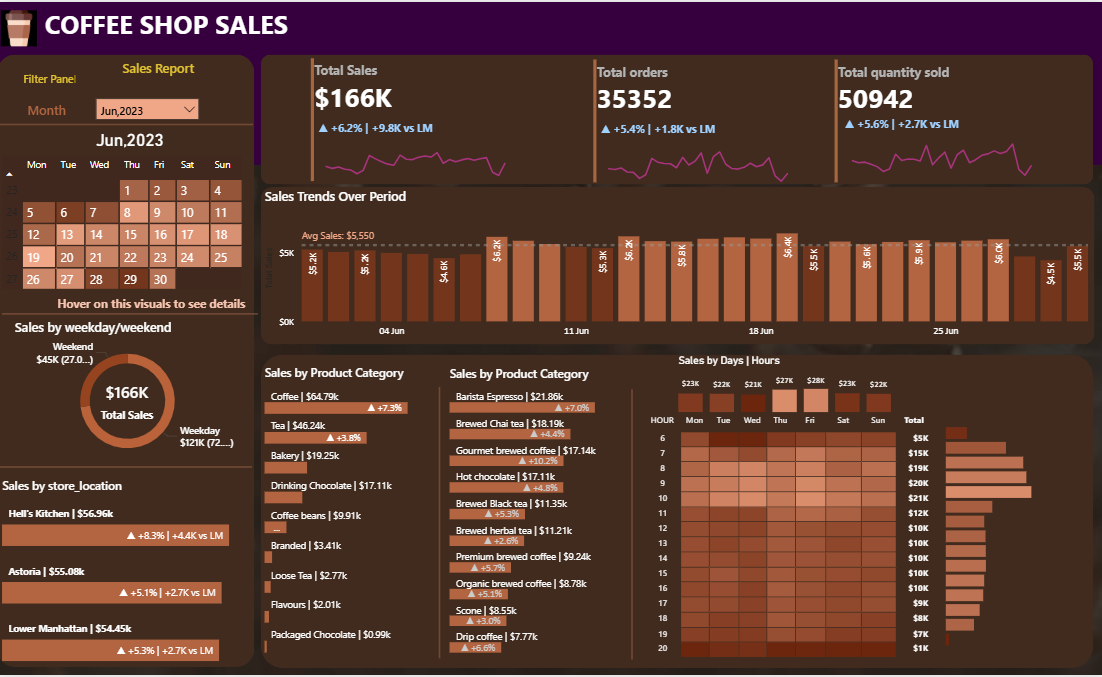

The dashboard page shown, as its layout file describes it:
{"tool":"powerbi","page":{"name":"coffee summary","canvas":[1400,850],"ordinal":0},"visuals":[{"type":"shape","box":[0,0,1400,206],"z":0},{"type":"shape","box":[0,66.3,325.1,773.2],"z":1000},{"type":"shape","box":[333,66.3,1051,164.1],"z":2000},{"type":"textbox","box":[55,1.4,339,65.2],"z":3000},{"type":"group","id":"g1","title":"Group 1","box":[391.3,66.3,265.1,164.1],"z":4000},{"type":"cardVisual","fields":{"Data":["Transactions.Total Sales"]},"box":[391.3,66.3,265.3,165.3],"z":4000,"group":"g1"},{"type":"cardVisual","fields":{"Data":["Transactions.Total orders"]},"box":[748,67.9,265.3,165.3],"z":4000,"group":"g3"},{"type":"cardVisual","fields":{"Data":["Transactions.Total sales STORE LOCATION"]},"box":[1052.5,67.9,265.3,165.3],"z":4000,"group":"g2"},{"type":"group","id":"g2","title":"Group 1","box":[1052.5,67.9,266.7,164.1],"z":5000},{"type":"group","id":"g3","title":"Group 1","box":[748,67.9,266.7,164.1],"z":6000},{"type":"lineChart","fields":{"Category":["Date Table.Date.Variation.Date Hierarchy.Year","Date Table.Date.Variation.Date Hierarchy.Quarter","Date Table.Date.Variation.Date Hierarchy.Month","Date Table.Date.Variation.Date Hierarchy.Day"],"Y":["Transactions.Total quantity sold"]},"box":[1064.5,144.9,255.6,81.9],"z":6000,"group":"g2"},{"type":"lineChart","fields":{"Category":["Date Table.Date.Variation.Date Hierarchy.Year","Date Table.Date.Variation.Date Hierarchy.Quarter","Date Table.Date.Variation.Date Hierarchy.Month","Date Table.Date.Variation.Date Hierarchy.Day"],"Y":["Transactions.Total Sales"]},"box":[401,149.6,255.6,81.9],"z":6000,"group":"g1"},{"type":"lineChart","fields":{"Category":["Date Table.Date.Variation.Date Hierarchy.Year","Date Table.Date.Variation.Date Hierarchy.Quarter","Date Table.Date.Variation.Date Hierarchy.Month","Date Table.Date.Variation.Date Hierarchy.Day"],"Y":["Transactions.Total orders"]},"box":[757.7,151.2,255.6,81.9],"z":6000,"group":"g3"},{"type":"pivotTable","fields":{"Columns":["Date Table.day name"],"Values":["Min(Date Table.day Number)"],"Rows":["Date Table.Week Num"]},"box":[1.6,189.4,321.9,209.9],"z":7000},{"type":"card","fields":{"Values":["Min(Date Table.Month Year)"]},"box":[101,159.4,134.1,30],"z":8000},{"type":"card","fields":{"Values":["Transactions.FOOTER NOTE"]},"box":[67.9,366.1,254.1,33.1],"z":9000},{"type":"shape","box":[606,574.4,321.9,12.6],"z":10000},{"type":"shape","box":[0,143.6,323.5,22.1],"z":11000},{"type":"donutChart","title":"Sales by weekday/weekend","fields":{"Category":["Date Table.weekday/weekend"],"Y":["Transactions.Total Sales"]},"box":[17.4,399.2,295.1,187.8],"z":12000},{"type":"card","fields":{"Values":["Transactions.Total Sales"]},"box":[119.9,471.8,88.4,63.1],"z":13000},{"type":"shape","box":[6.3,388.2,323.5,11],"z":14000},{"type":"clusteredBarChart","title":" Sales by store_location","fields":{"Category":["Transactions.store_location"],"Y":["Transactions.placeholde","Transactions.Total Sales"]},"box":[1.6,599.6,323.5,241.4],"z":15000},{"type":"shape","box":[333,445,1051,396.1],"z":16000},{"type":"shape","box":[333,233.5,1052.5,198.8],"z":17000},{"type":"columnChart","title":"Sales Trends Over Period","fields":{"Category":["Transactions.transaction_date"],"Y":["Transactions.Total Sales"]},"box":[333,233.5,1052.5,198.8],"z":18000},{"type":"clusteredBarChart","title":" Sales by Product Category","fields":{"Y":["Transactions.placeholde","Transactions.Total Sales"],"Category":["Transactions.product_category"]},"box":[333.2,457.7,220.2,369.4],"z":19000},{"type":"shape","box":[0,580.7,321.9,12.6],"z":20000},{"type":"shape","box":[550.7,486,15.8,342.4],"z":21000},{"type":"clusteredBarChart","title":" Sales by Product Category","fields":{"Y":["Transactions.placeholde","Transactions.Total Sales"],"Category":["Transactions.product_type"]},"box":[566.4,459.2,226,367.9],"z":22000},{"type":"shape","box":[792.2,489.2,18.9,340.9],"z":23000},{"type":"pivotTable","fields":{"Rows":["Transactions.HOUR"],"Columns":["Date Table.day name"],"Values":["Transactions.Total Sales"]},"box":[812.7,516,375.6,323.5],"z":24000},{"type":"barChart","fields":{"Category":["Transactions.HOUR"],"Y":["Transactions.Total Sales"]},"box":[1193,523.9,162.5,293.5],"z":25000},{"type":"columnChart","title":"Sales by Days | Hours","fields":{"Y":["Transactions.Total Sales"],"Category":["Date Table.day name"]},"box":[855.3,445,279.3,78.9],"z":26000},{"type":"slicer","fields":{"Values":["Date Table.Month Year"]},"box":[119.9,116.8,140.4,42.6],"z":27000},{"type":"textbox","box":[33.3,120.2,86.9,33.3],"z":28000},{"type":"textbox","box":[119.9,67.9,167.3,33.1],"z":29000},{"type":"textbox","box":[17.4,84,98.5,33.3],"z":30000},{"type":"image","box":[0,0,55,66.6],"z":31000}]}

Visuals, with their boxes in screenshot pixels (x1, y1, x2, y2), scaled from the page's 1400x850 canvas onto the 1102x677 screenshot:
shape: detection(0, 0, 1101, 164)
shape: detection(0, 53, 256, 669)
shape: detection(262, 53, 1089, 184)
textbox: detection(43, 1, 310, 53)
"Group 1" group: detection(308, 53, 517, 184)
cardVisual - Transactions.Total Sales: detection(308, 53, 517, 184)
cardVisual - Transactions.Total orders: detection(589, 54, 798, 186)
cardVisual - Transactions.Total sales STORE LOCATION: detection(828, 54, 1037, 186)
"Group 1" group: detection(828, 54, 1038, 185)
"Group 1" group: detection(589, 54, 799, 185)
lineChart - Date Table.Date.Variation.Date Hierarchy.Year x Date Table.Date.Variation.Date Hierarchy.Quarter: detection(838, 115, 1039, 181)
lineChart - Date Table.Date.Variation.Date Hierarchy.Year x Date Table.Date.Variation.Date Hierarchy.Quarter: detection(316, 119, 517, 184)
lineChart - Date Table.Date.Variation.Date Hierarchy.Year x Date Table.Date.Variation.Date Hierarchy.Quarter: detection(596, 120, 798, 186)
pivotTable - Date Table.day name x Min(Date Table.day Number): detection(1, 151, 255, 318)
card - Min(Date Table.Month Year): detection(80, 127, 185, 151)
card - Transactions.FOOTER NOTE: detection(53, 292, 253, 318)
shape: detection(477, 457, 730, 468)
shape: detection(0, 114, 255, 132)
"Sales by weekday/weekend" donutChart: detection(14, 318, 246, 468)
card - Transactions.Total Sales: detection(94, 376, 164, 426)
shape: detection(5, 309, 260, 318)
" Sales by store_location" clusteredBarChart: detection(1, 478, 256, 670)
shape: detection(262, 354, 1089, 670)
shape: detection(262, 186, 1091, 344)
"Sales Trends Over Period" columnChart: detection(262, 186, 1091, 344)
" Sales by Product Category" clusteredBarChart: detection(262, 365, 436, 659)
shape: detection(0, 463, 253, 473)
shape: detection(433, 387, 446, 660)
" Sales by Product Category" clusteredBarChart: detection(446, 366, 624, 659)
shape: detection(624, 390, 638, 661)
pivotTable - Transactions.HOUR x Date Table.day name: detection(640, 411, 935, 669)
barChart - Transactions.HOUR x Transactions.Total Sales: detection(939, 417, 1067, 651)
"Sales by Days | Hours" columnChart: detection(673, 354, 893, 417)
slicer - Date Table.Month Year: detection(94, 93, 205, 127)
textbox: detection(26, 96, 95, 122)
textbox: detection(94, 54, 226, 80)
textbox: detection(14, 67, 91, 93)
image: detection(0, 0, 43, 53)
